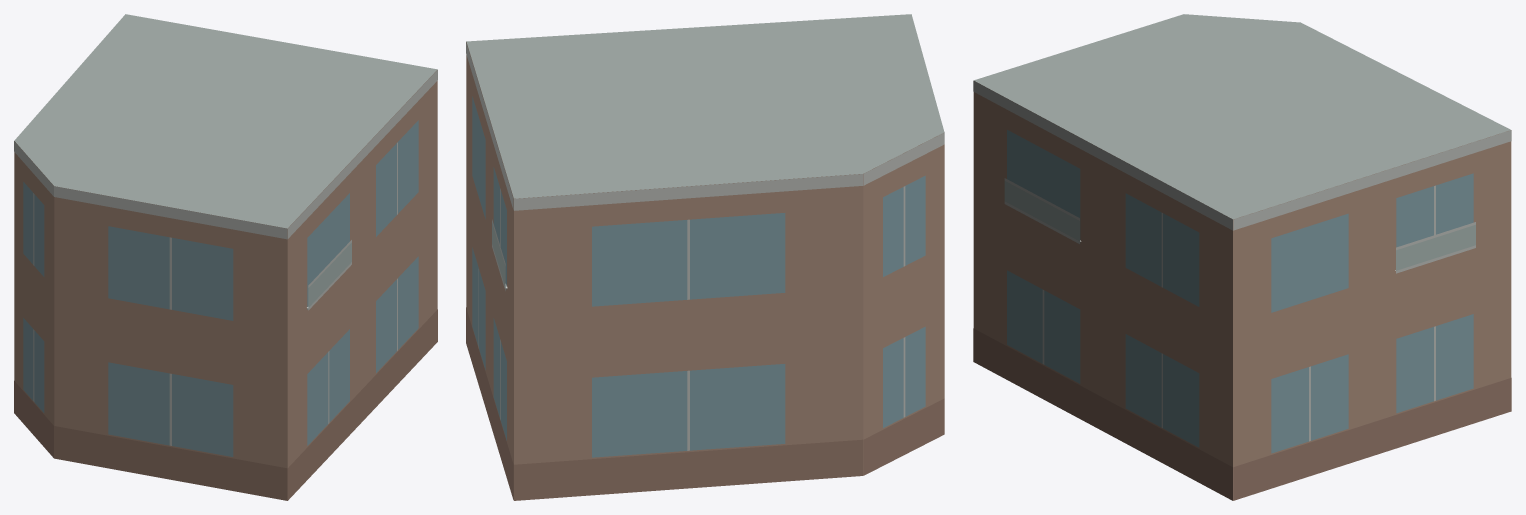
Rendered from survey-upis-32722012.glb.
3 views of the same model, side by side, from view 1: azimuth 30°, elevation 25°; view 2: azimuth 150°, elevation 25°; view 3: azimuth 270°, elevation 25° (orthographic). The views are drawn at different scales.
Parts seen in each view (by area): view 1: survey-upis-32722012.tmp; view 2: survey-upis-32722012.tmp; view 3: survey-upis-32722012.tmp.
Part boxes in pixels (x1=…): survey-upis-32722012.tmp: x1=14, y1=14, x2=437, y2=500; survey-upis-32722012.tmp: x1=466, y1=14, x2=944, y2=500; survey-upis-32722012.tmp: x1=973, y1=14, x2=1511, y2=500.
Bounding box in the file's own units: 9.56 × 6.1 × 10.58.
